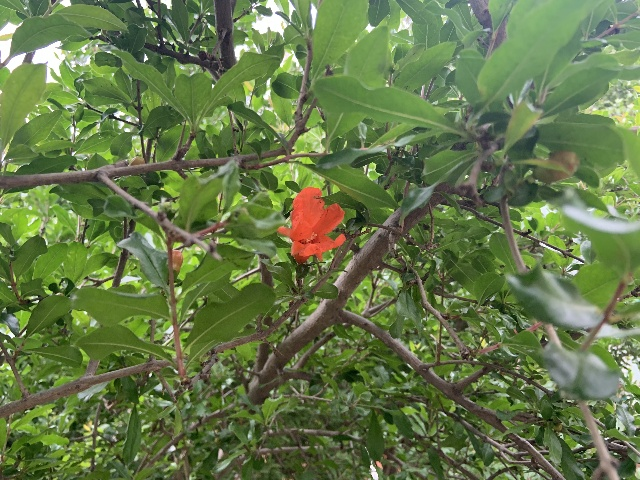bud: (169, 249, 183, 273), (128, 156, 144, 166)
flower: (276, 186, 345, 263)
